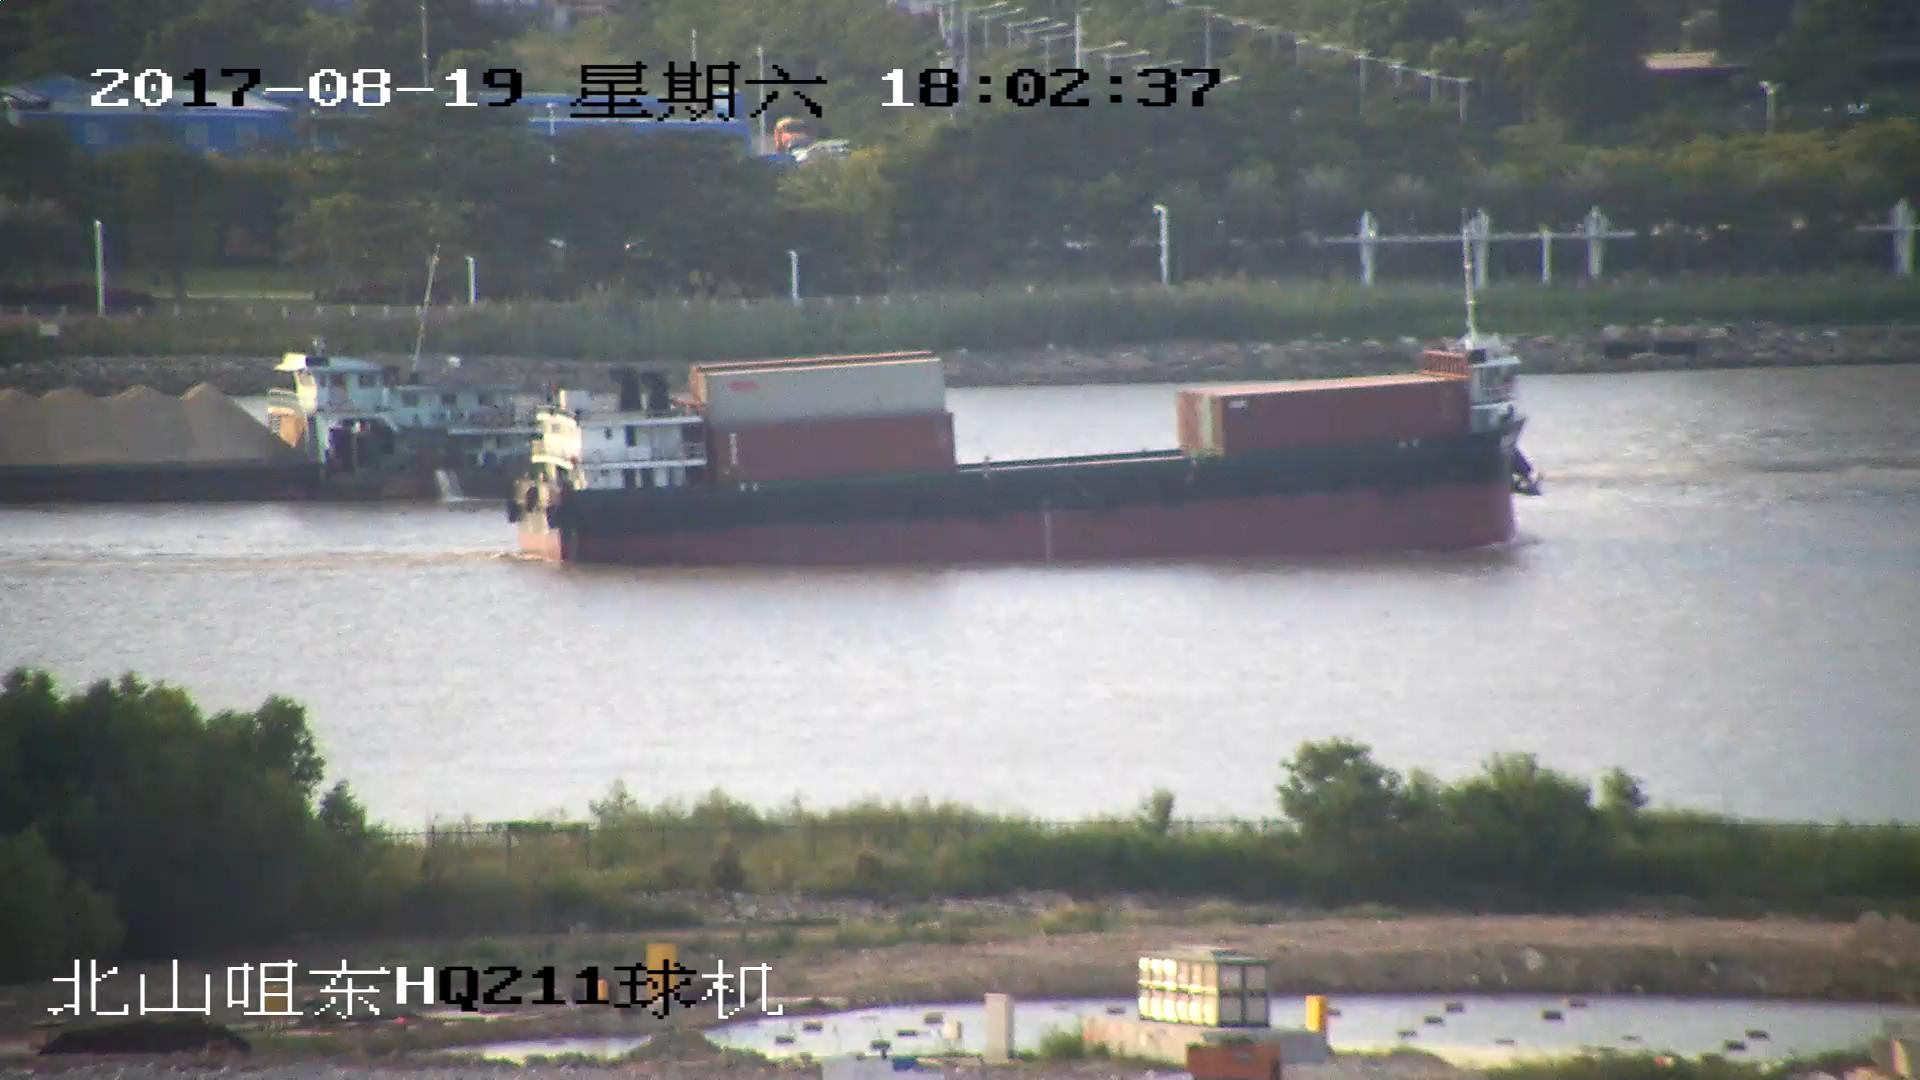container ship: (512, 280, 1536, 565)
ore carrier: (1, 348, 503, 507)
